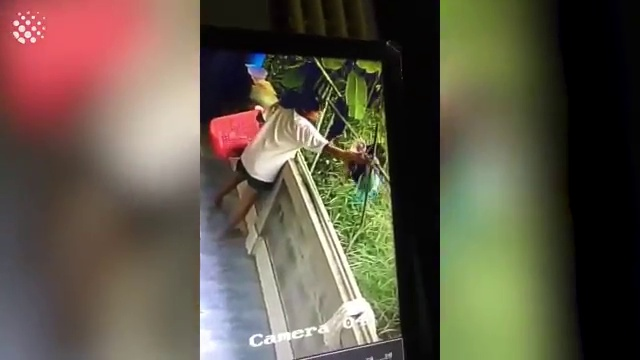face: (308, 99, 322, 122)
